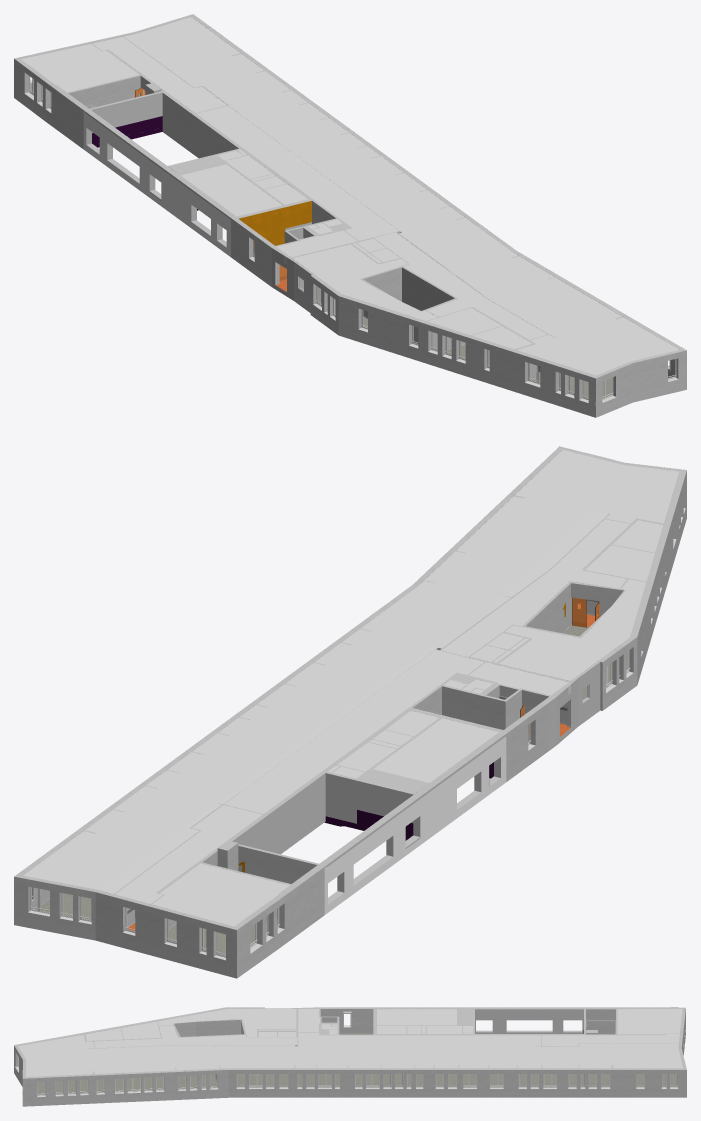
Rendered from 1_floor_aisle_b_sized_v3.glb.
3 renders of one model, top to bottom at view 1: azimuth 30°, elevation 25°; view 2: azimuth 150°, elevation 25°; view 3: azimuth 270°, elevation 25°, orthographic. The views are drawn at different scales.
Visible parts, largest first — view 1: NOCOL_MERGED_fenetre_1e_aileb, Sol; view 2: NOCOL_MERGED_fenetre_1e_aileb, Sol; view 3: NOCOL_MERGED_fenetre_1e_aileb, Sol.
Boxes of the visible parts, x1=… form: NOCOL_MERGED_fenetre_1e_aileb: x1=21, y1=17, x2=678, y2=403; Sol: x1=14, y1=14, x2=686, y2=417; NOCOL_MERGED_fenetre_1e_aileb: x1=23, y1=450, x2=685, y2=960; Sol: x1=14, y1=446, x2=686, y2=978; NOCOL_MERGED_fenetre_1e_aileb: x1=15, y1=1009, x2=685, y2=1097; Sol: x1=14, y1=1007, x2=686, y2=1106.
Size of what is drawn, in the model's own units: 18.88 by 4.82 by 75.1.
31 materials, 8 textured.
